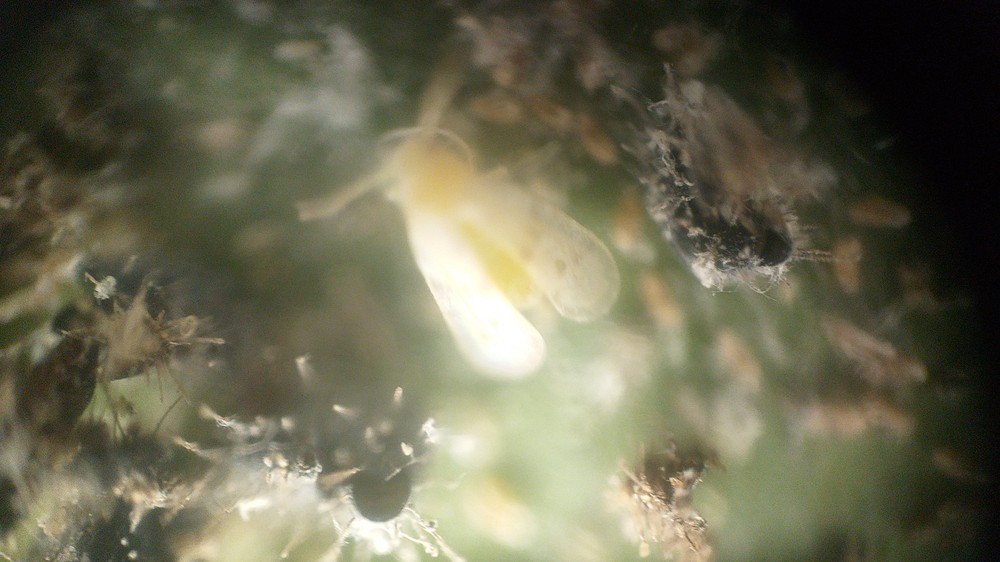Mosca Blanca: (286, 48, 649, 390)
